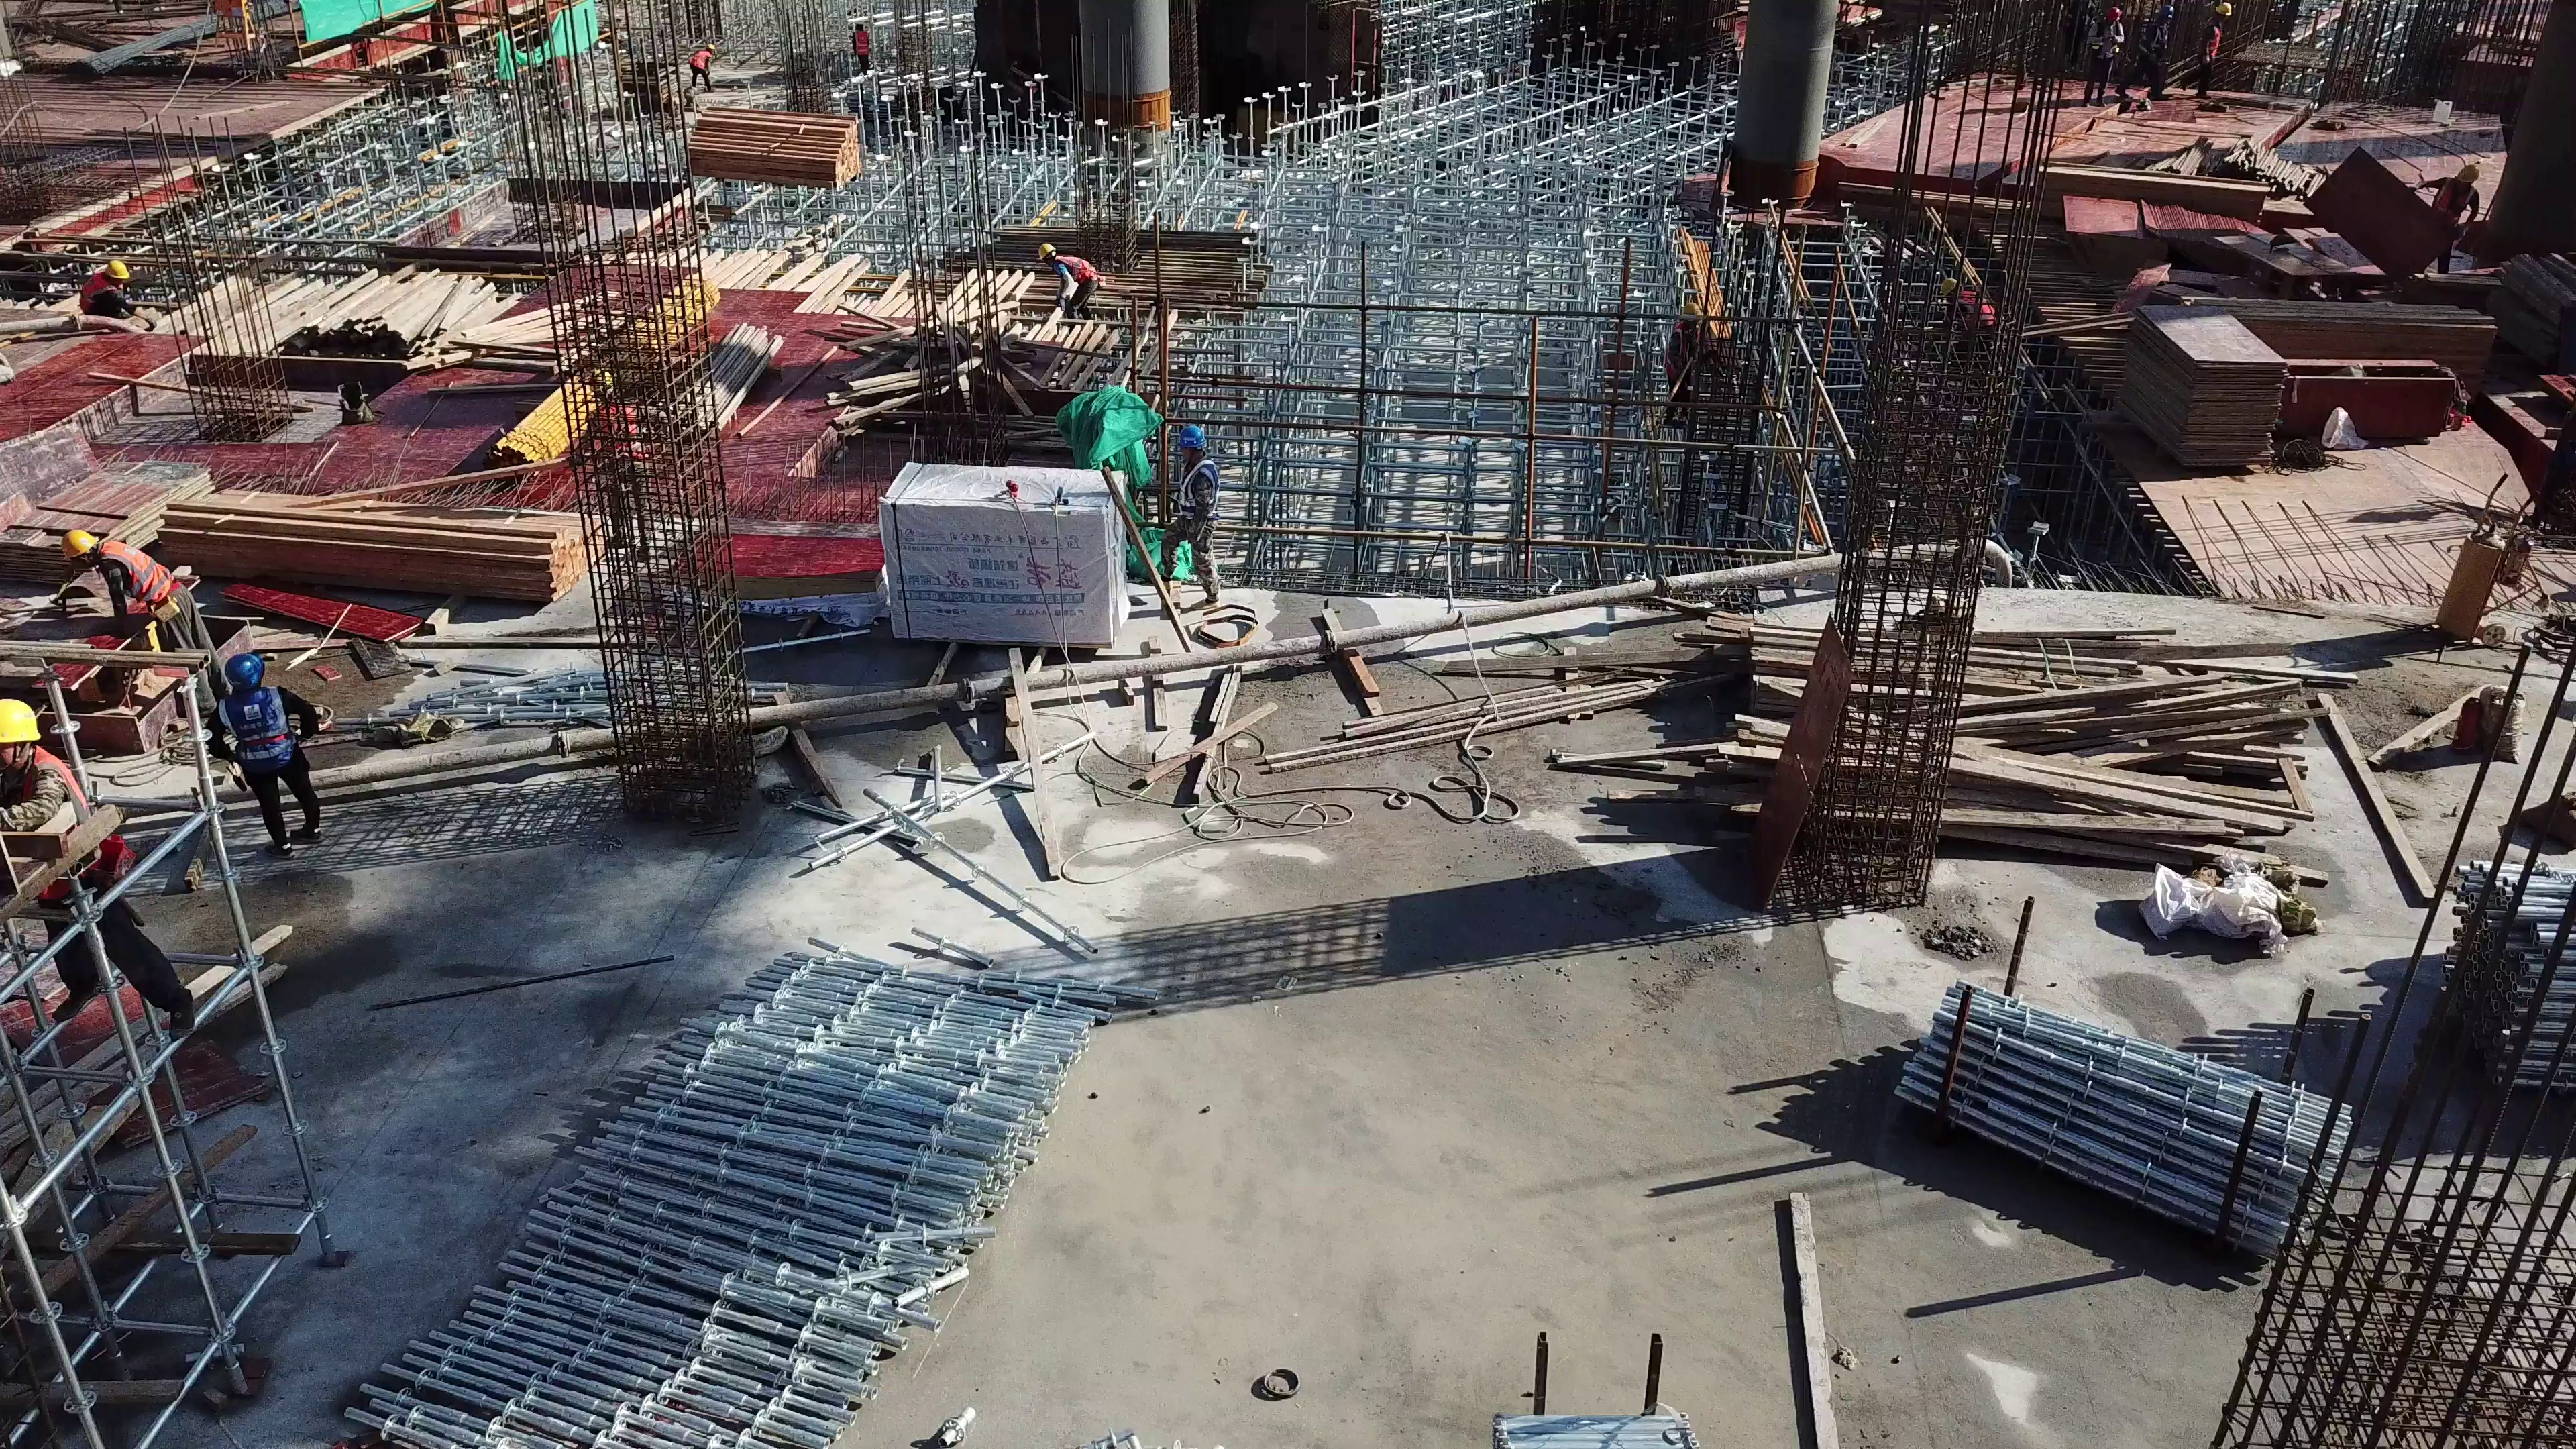board: (2120, 305, 2277, 468), (9, 461, 205, 575), (663, 538, 883, 621)
cutter: (5, 576, 197, 687), (2212, 234, 2349, 291)
ebox: (219, 4, 257, 46)
helmet: (1, 695, 44, 751), (60, 528, 100, 566), (223, 655, 265, 690), (1175, 422, 1206, 451), (107, 259, 130, 279), (1684, 304, 1703, 326), (1939, 272, 1956, 291), (2214, 3, 2232, 23), (2110, 5, 2124, 25), (2459, 162, 2472, 180), (1042, 240, 1055, 256)
person: (1, 695, 199, 1038), (58, 528, 227, 716), (205, 655, 332, 854), (566, 368, 653, 561), (1161, 422, 1221, 603), (2410, 164, 2479, 276), (78, 260, 156, 332), (1663, 303, 1703, 425), (1036, 240, 1097, 321), (2126, 5, 2176, 103), (1940, 275, 1997, 356), (2085, 7, 2123, 107), (2196, 2, 2231, 100), (850, 22, 875, 72), (691, 42, 716, 89)
rebar: (78, 16, 229, 85)
scaffold: (342, 972, 1129, 1443), (1896, 973, 2327, 1260), (2450, 857, 2568, 1096), (1492, 1405, 1693, 1449)
vest: (9, 754, 113, 883), (217, 688, 295, 766), (99, 543, 172, 604), (1180, 459, 1217, 524), (596, 402, 637, 455), (2434, 178, 2468, 224), (1666, 324, 1696, 376), (1960, 288, 1994, 327), (79, 271, 113, 306), (1058, 255, 1095, 279), (2092, 21, 2115, 59), (2208, 21, 2219, 60), (855, 30, 868, 56), (693, 48, 709, 69)
wood: (162, 502, 590, 594), (2192, 297, 2495, 375), (2035, 163, 2263, 224), (686, 107, 863, 187)
